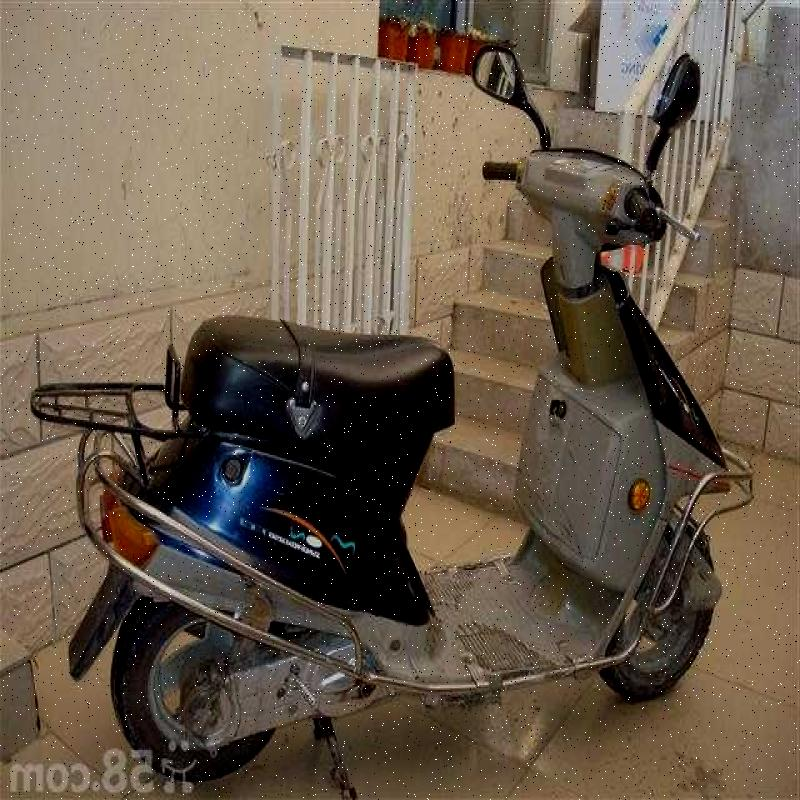bike: (48, 46, 732, 772)
